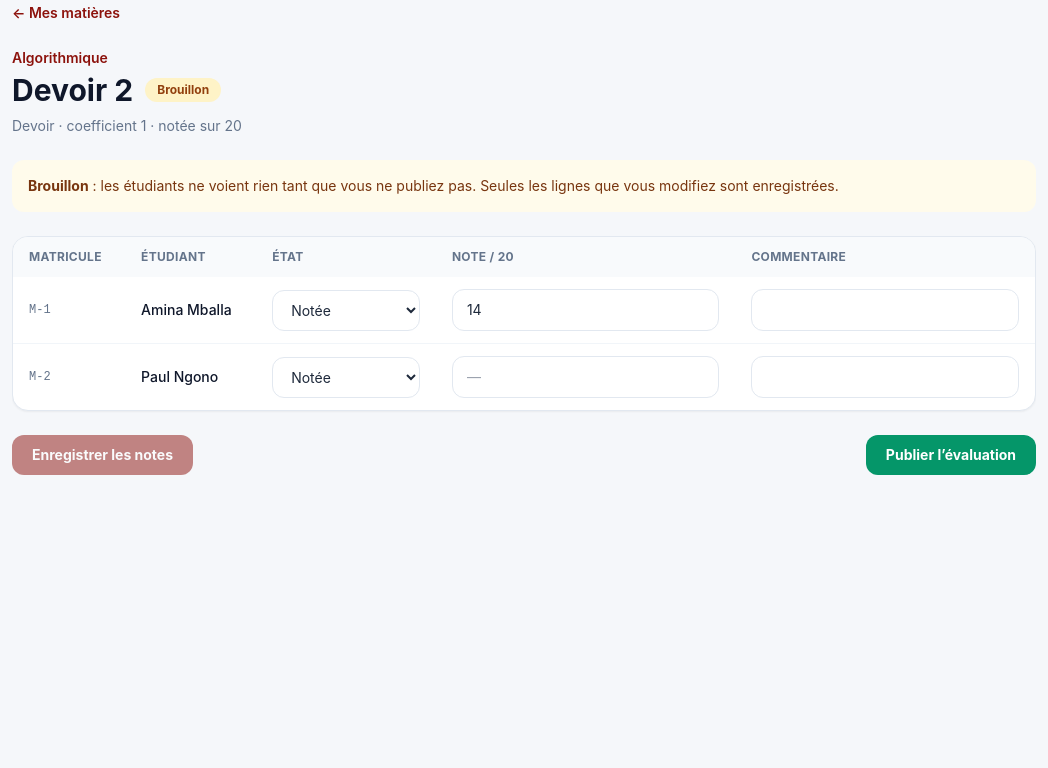
Test case: conflits et erreurs par ligne › CONFLIT : recharge la grille, garde les saisies, signale la ligne avec la valeur actuelle
Replace the text in the field named "Note de Amina Mballa" with "19" at (586, 310), box [452,289,719,331]
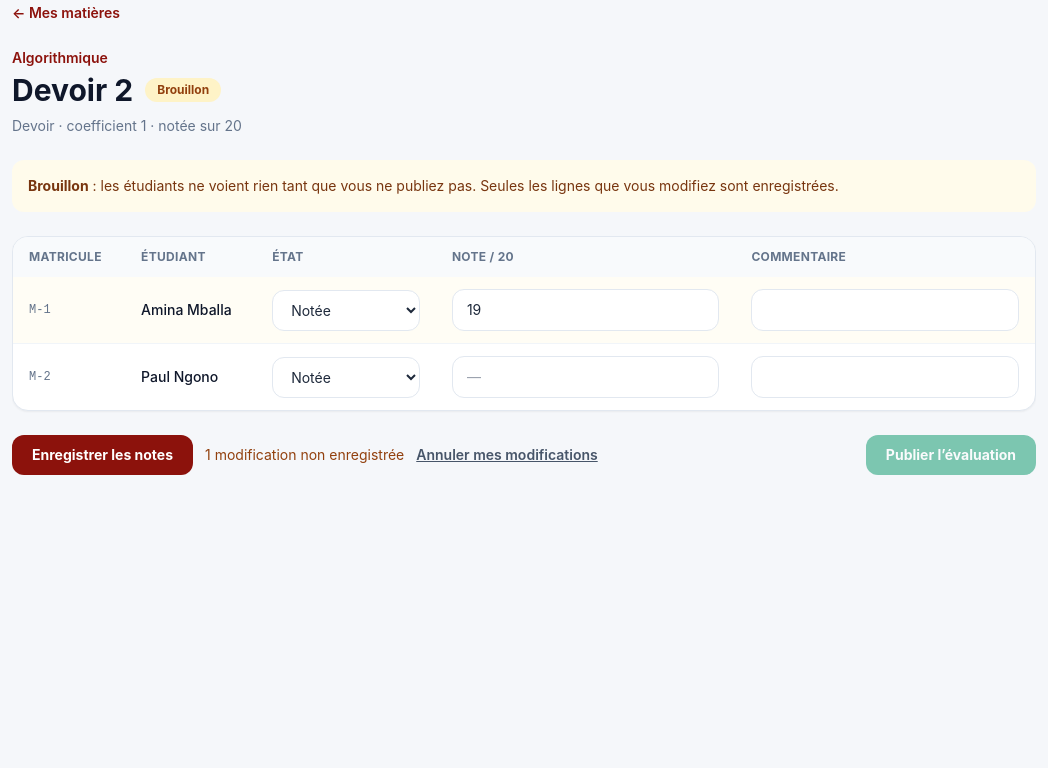
Type "13" into the field named "Note de Paul Ngono".
click(586, 377); type("13")  # box [452,356,719,398]
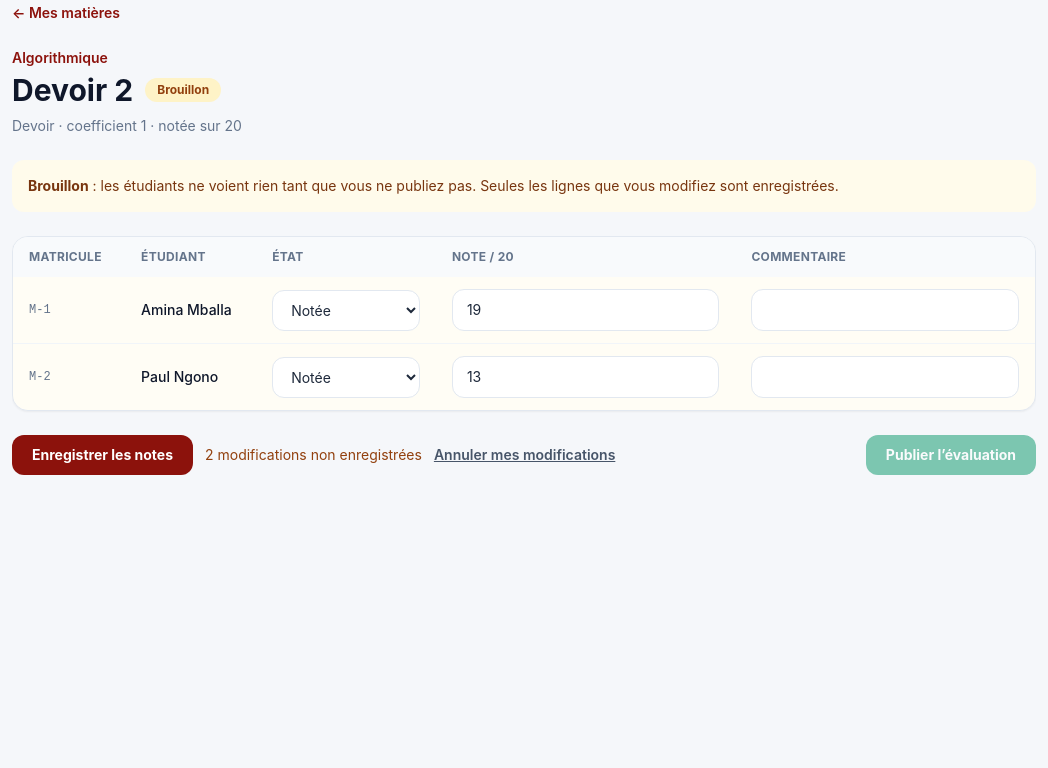
Click the button "Enregistrer les notes".
click(102, 455)  # box [12,435,193,475]
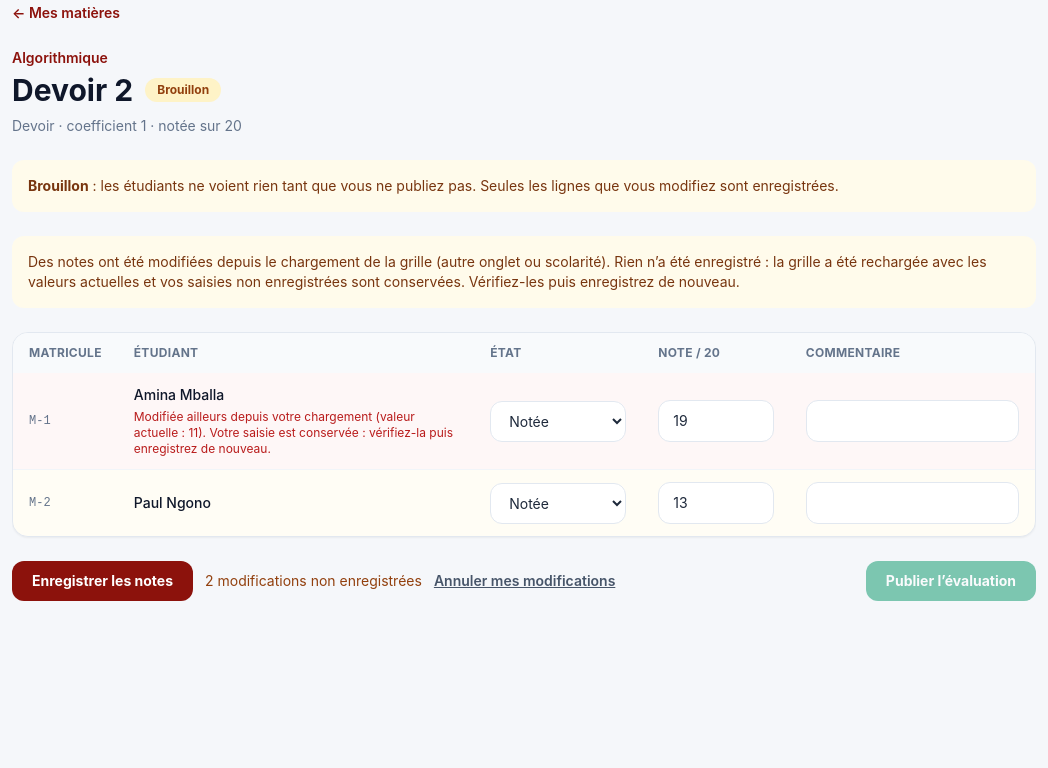
Expected: the text "Des notes ont été modifiées depuis le chargement" shows "Rien n’a été enregistré", [28,253,986,290]
Expected: the 2nd message shows "valeur actuelle : 11", [134,409,453,456]
Click the button "Enregistrer les notes".
click(102, 581)  # box [12,561,193,601]
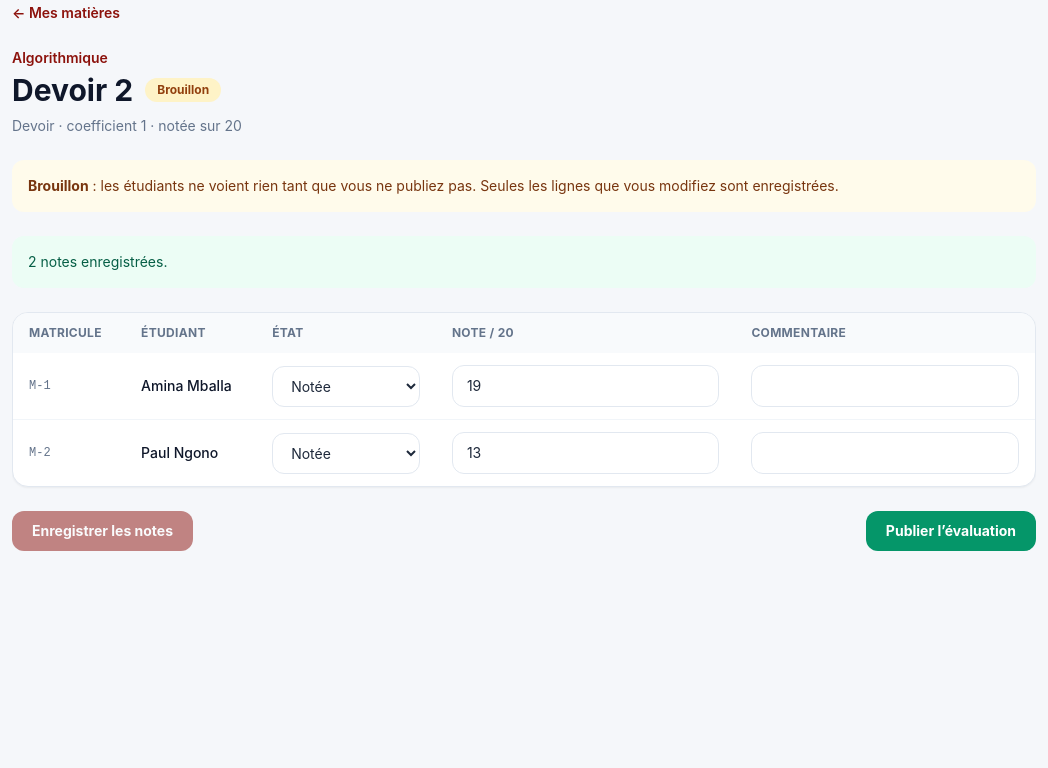
Expected: the message shows "2 notes enregistrées", [28,253,168,270]
